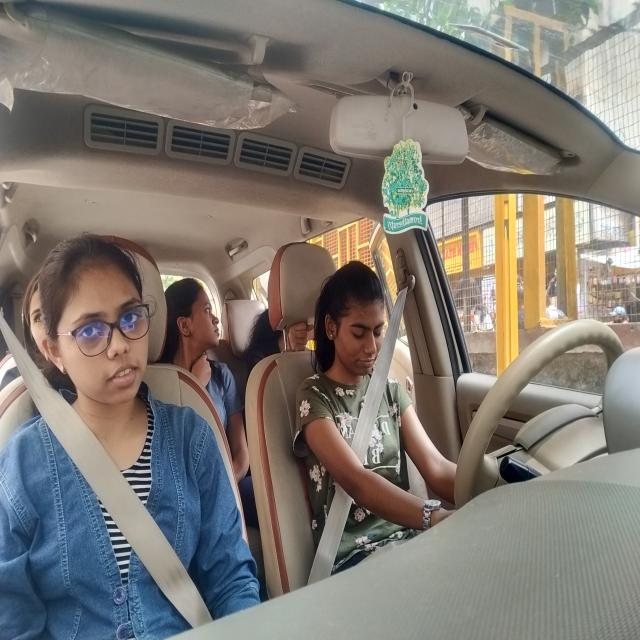drowsy: (313, 255, 387, 376)
person: (41, 242, 160, 411), (169, 275, 228, 361), (20, 272, 47, 368)
